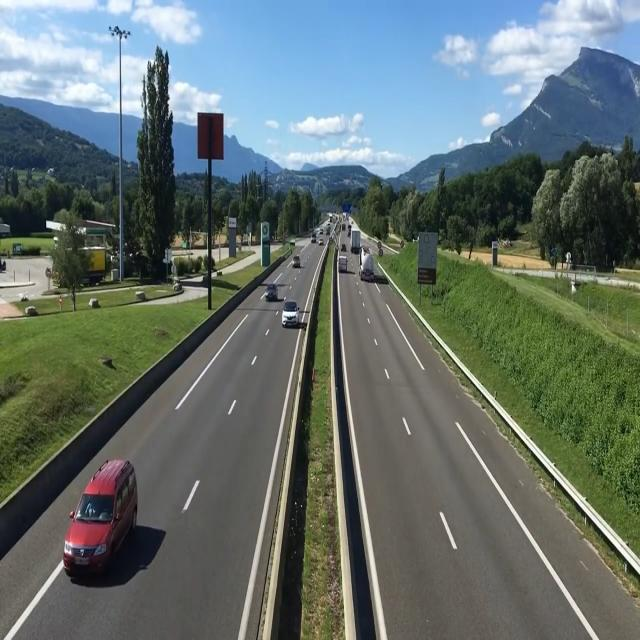car: (61, 462, 137, 584), (279, 298, 302, 329), (264, 279, 280, 307), (337, 253, 349, 274), (291, 250, 303, 270)
truck: (360, 240, 380, 286)
